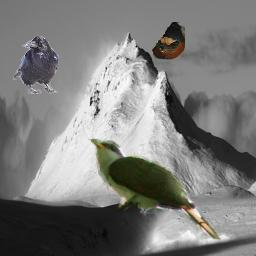Crow: (13, 35, 59, 94)
Cuckoo: (87, 138, 221, 240)
Swallow: (152, 22, 185, 60)
